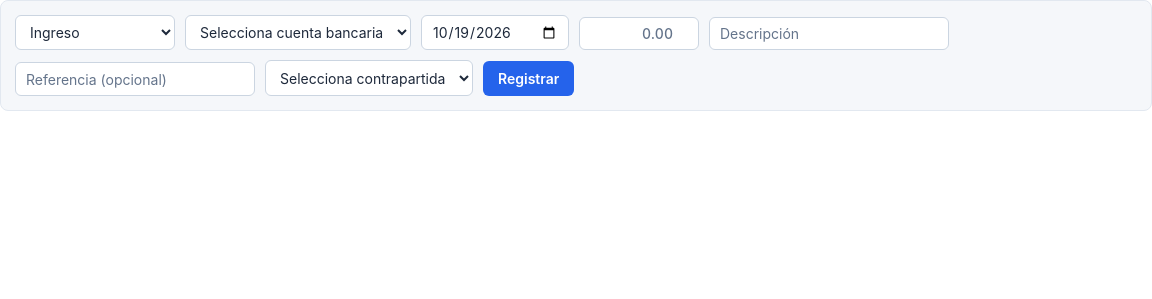
Test: FormularioMovimiento › cuentas en dólares › sin tasa disponible bloquea el registro
Select "BAC USD-1 (USD)" in the dropdown named "Cuenta bancaria": (298,33) [185,15,411,50]
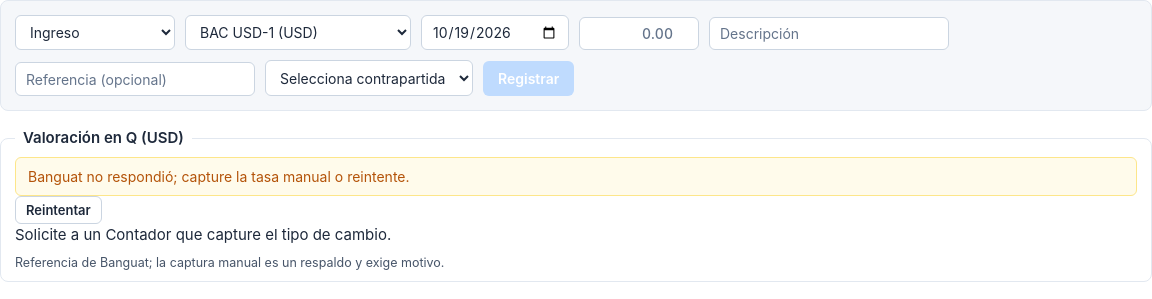
Expected: the text "Banguat no respondió; capture la tasa manual o reintente." is shown, [15,157,1137,196]
Expected: the button "Registrar" is disabled, [483,61,574,96]
